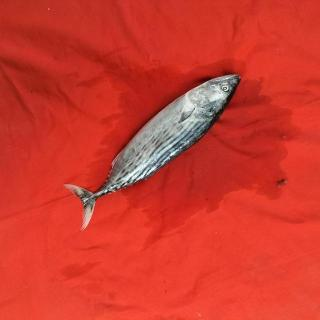Ikan: (66, 66, 246, 237)
